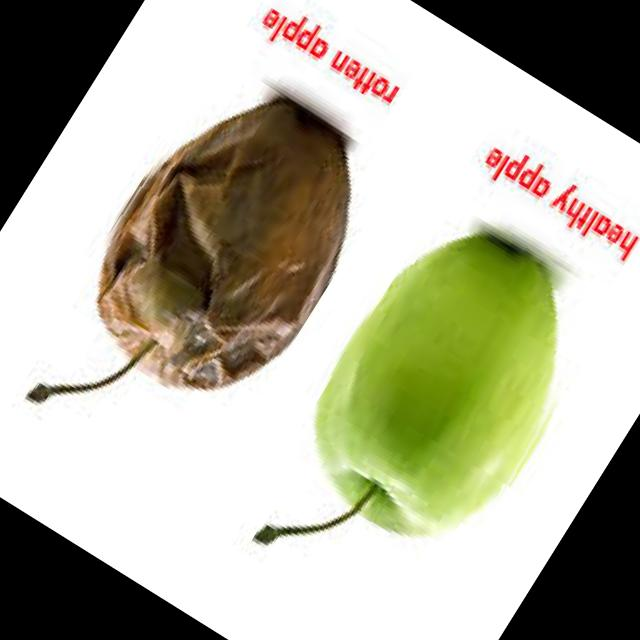Organic: (275, 193, 625, 578), (53, 53, 400, 430)
